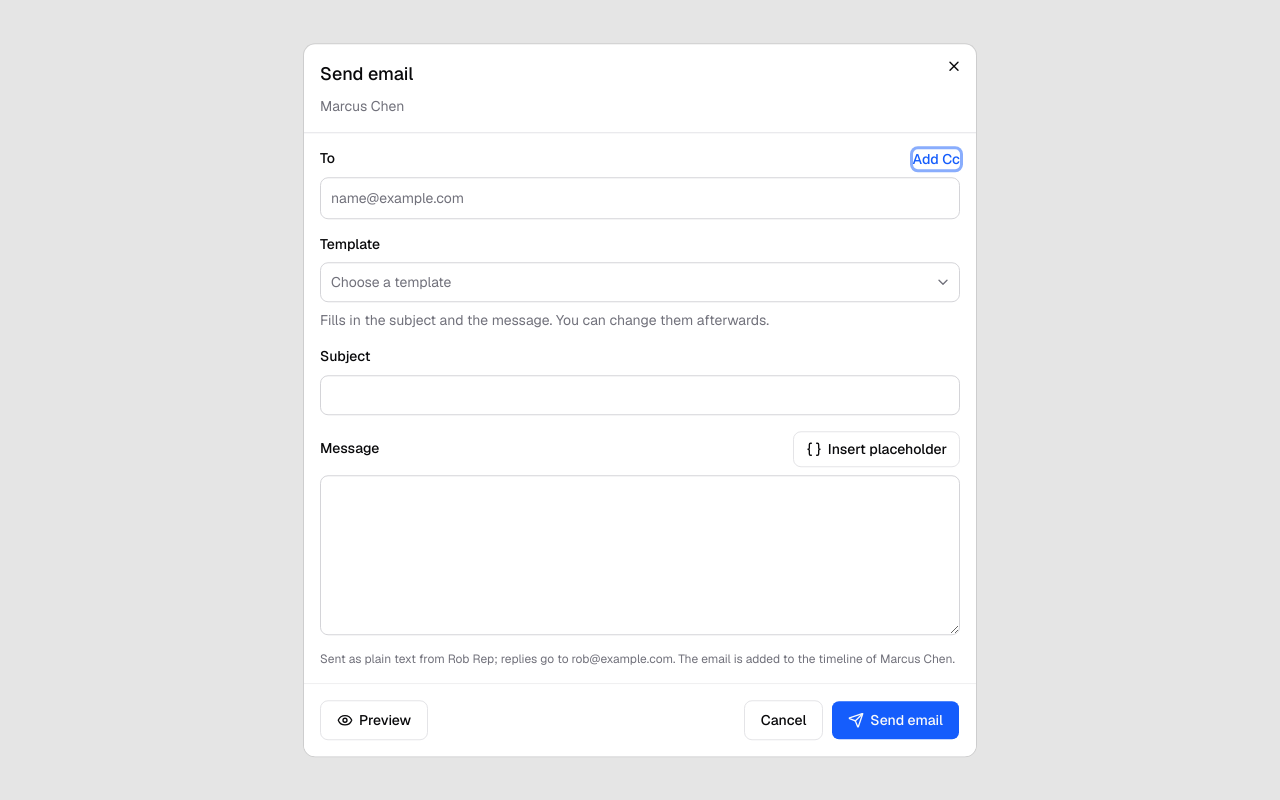
Test: SendEmailDialog › the address boxes › keep what is not an address in the box, with the reason
Expected: the dialog is shown, [304,44,976,756]
Expected: the dropdown labelled "template" is shown, [320,262,960,302]
Type "marcus@" into the field labelled "To". click: (640, 198)
box: [325,182,955,214]
Then press Enter
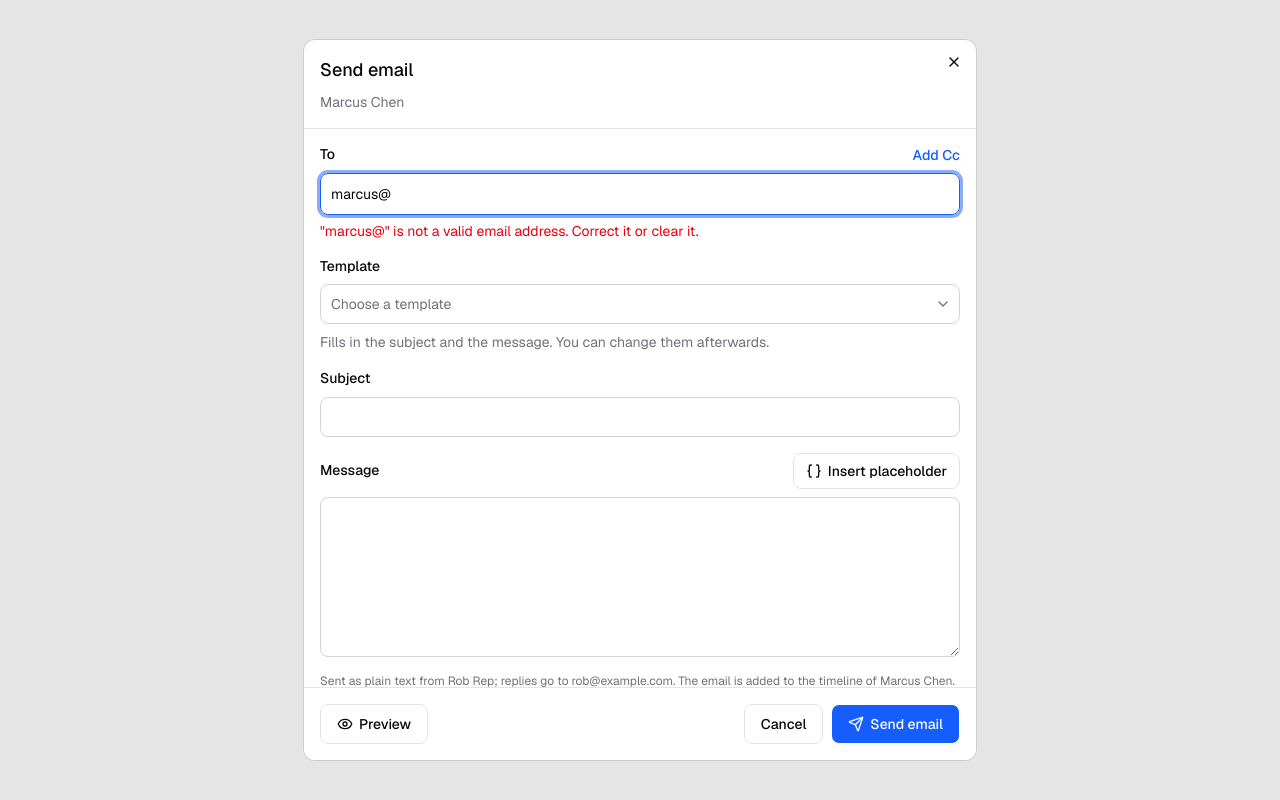
Result: the text "\"marcus@\" is not a valid email address. Correct it or clear it." is shown at [320,222,698,240]
Typing on clears the message.
Type "acme.example" into the field labelled "To". click: (640, 194)
box: [325,178,955,210]
Then press Enter
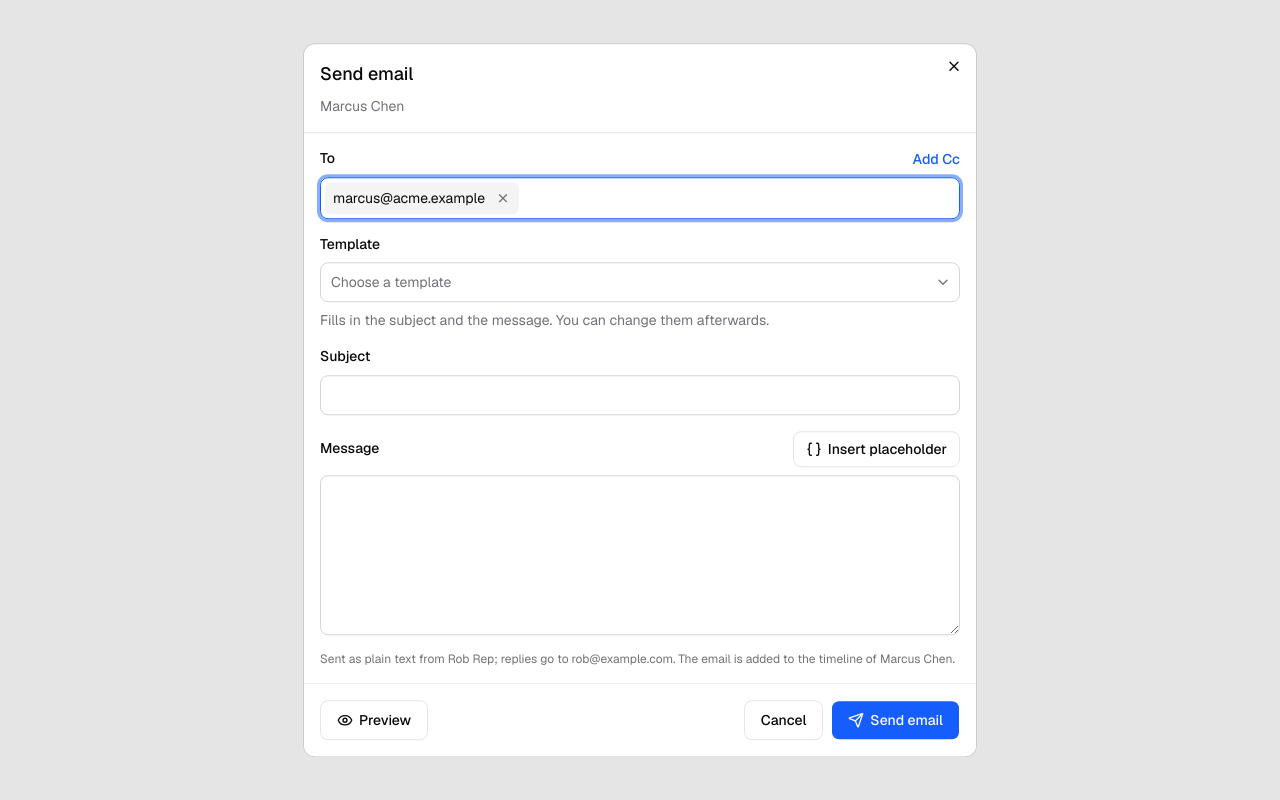
Result: the text "is not a valid email address" is gone
